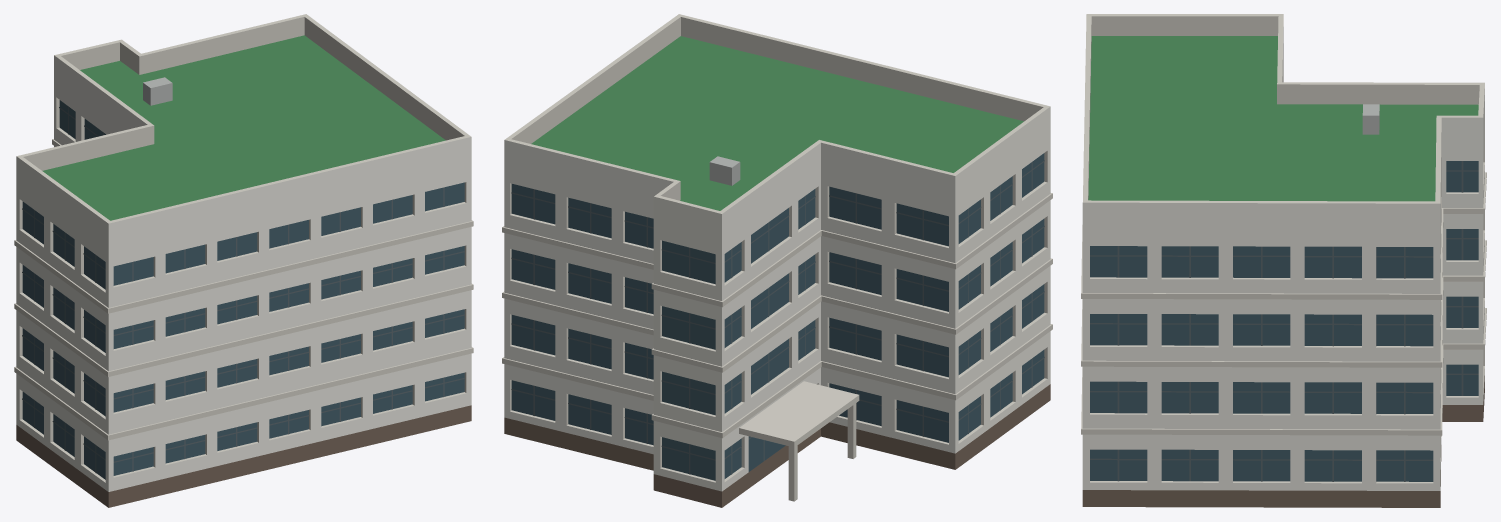
The picture shows the model from 3 angles, left to right: view 1: azimuth 30°, elevation 25°; view 2: azimuth 150°, elevation 25°; view 3: azimuth 270°, elevation 25°; orthographic projection. The views are drawn at different scales.
Parts seen in each view (by area): view 1: wing3__wall-plaster, wing3__roof, wing3__glass, wing3__trim-concrete, wing3__base-stone, wing3__frame, wing3__equipment; view 2: wing3__wall-plaster, wing3__glass, wing3__roof, wing3__trim-concrete, wing3__base-stone, wing3__frame, wing3__canopy-concrete, wing3__equipment; view 3: wing3__wall-plaster, wing3__roof, wing3__glass, wing3__trim-concrete, wing3__base-stone, wing3__frame, wing3__equipment.
Boxes of the visible parts, box(x1,y1,x2,y2) form: wing3__wall-plaster: box(16, 55, 471, 491); wing3__roof: box(42, 35, 445, 220); wing3__glass: box(22, 100, 464, 479); wing3__trim-concrete: box(14, 14, 473, 482); wing3__base-stone: box(16, 405, 471, 507); wing3__frame: box(22, 106, 464, 472); wing3__equipment: box(143, 77, 172, 105); wing3__wall-plaster: box(504, 106, 1050, 491); wing3__glass: box(511, 153, 1044, 480); wing3__roof: box(531, 36, 1023, 210); wing3__trim-concrete: box(502, 14, 1052, 482); wing3__base-stone: box(504, 384, 1050, 507); wing3__frame: box(511, 160, 1044, 474); wing3__canopy-concrete: box(739, 381, 859, 501); wing3__equipment: box(709, 156, 740, 185); wing3__wall-plaster: box(1082, 27, 1484, 490); wing3__roof: box(1088, 36, 1478, 201); wing3__glass: box(1090, 161, 1478, 481); wing3__trim-concrete: box(1081, 14, 1486, 483); wing3__base-stone: box(1082, 376, 1484, 507); wing3__frame: box(1090, 161, 1478, 481); wing3__equipment: box(1362, 104, 1379, 134).
Size of the model in its own units: 21.75 by 16.15 by 19.51.
